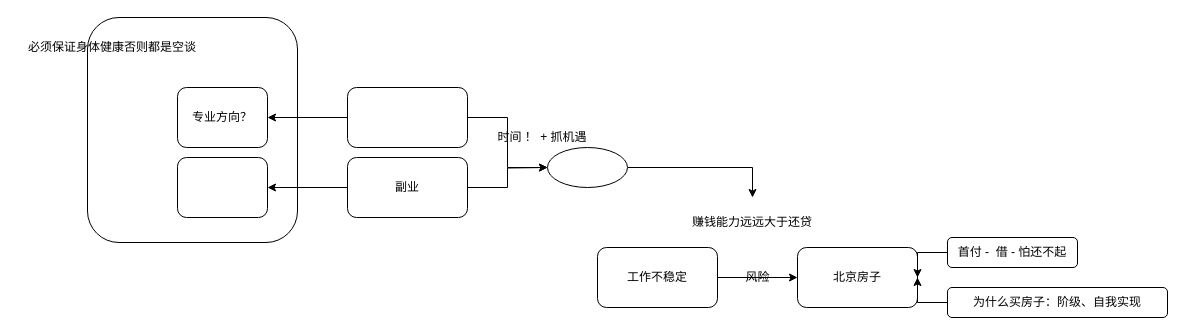
This 1185x335 diagram has some shape labels left out. Here are the shapes that lost their labels. From the top down, the box of each, then its label:
(346, 86, 468, 148): 专业 - 专家
(176, 156, 268, 218): 擅长什么，并可以发展为副业？
(546, 146, 628, 188): 如何做
